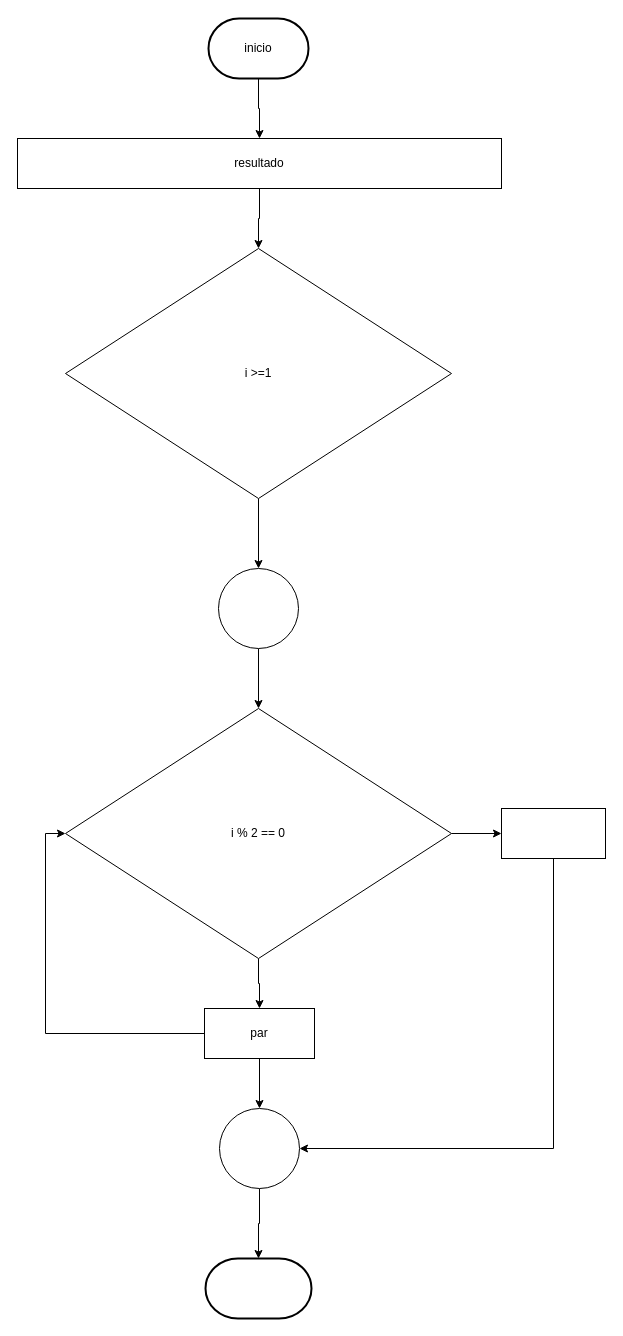
The diagram is 623 pixels wide and 1336 high, and some of its shapes have lost their labels. Each missing label, with the box of its shape:
fim: (204, 1257, 312, 1319)
impar: (500, 808, 606, 858)
